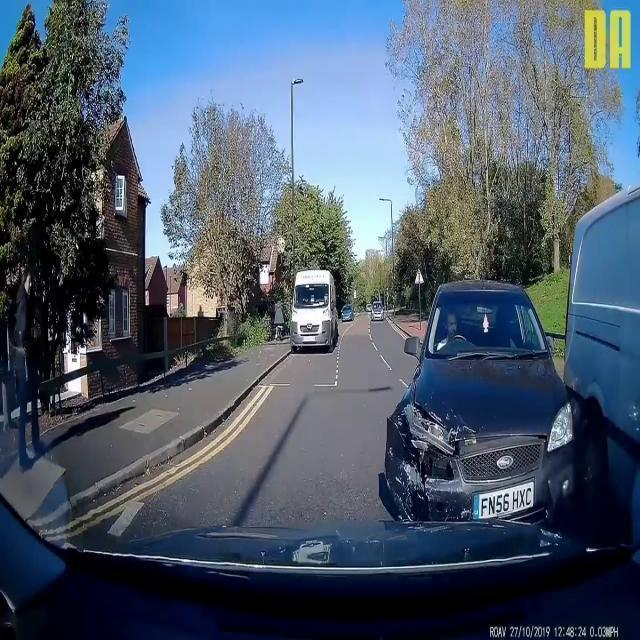accident: (379, 288, 575, 520)
